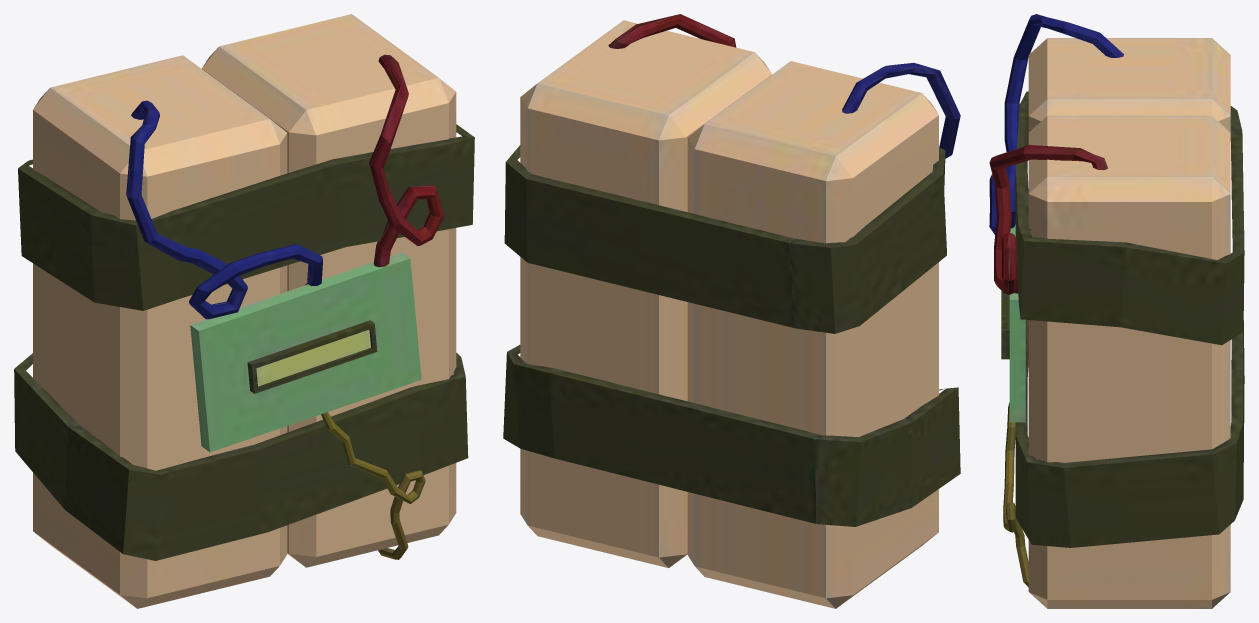
File: bomb.glb
The picture shows the model from 3 angles, left to right: view 1: azimuth 30°, elevation 25°; view 2: azimuth 150°, elevation 25°; view 3: azimuth 270°, elevation 25°; orthographic projection. The views are drawn at different scales.
Visible parts, largest first — view 1: Cube_BombMat_0; view 2: Cube_BombMat_0; view 3: Cube_BombMat_0.
Part boxes in pixels (x1,y1,x2,y2): Cube_BombMat_0: (14,14,474,608); Cube_BombMat_0: (503,14,960,608); Cube_BombMat_0: (989,14,1244,608).
Size of the model in its own units: 0.229 by 0.3 by 0.1461.
1 material, 1 textured.
